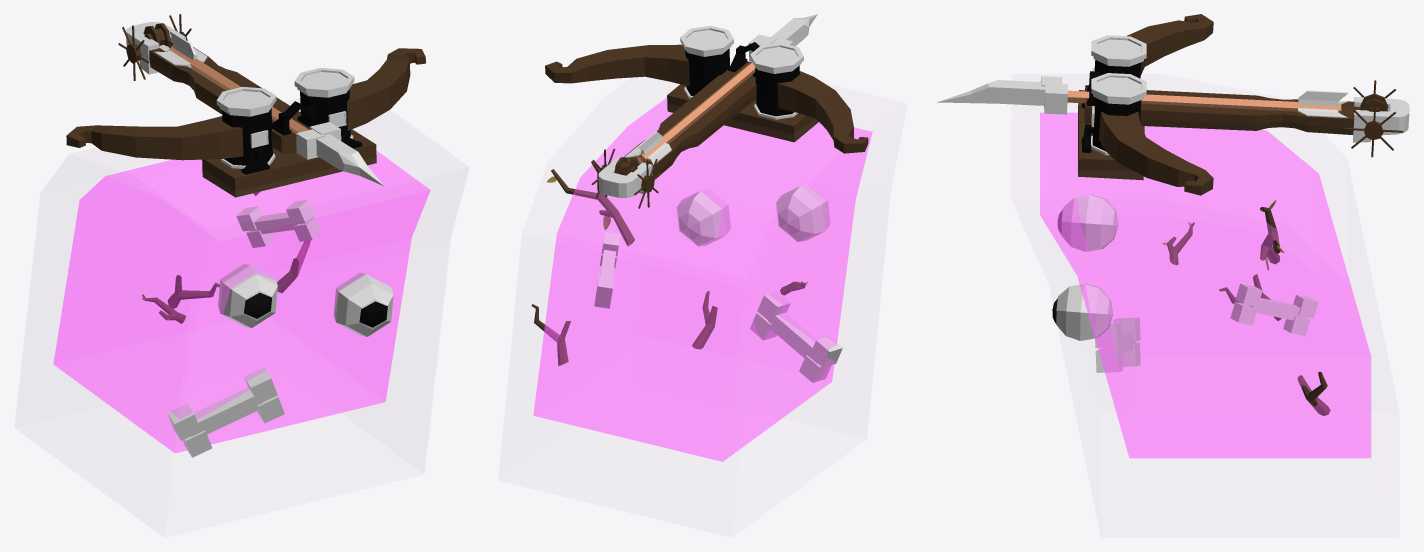
Rendered from Enemy_Range01.fbx.
3 renders of one model, left to right at view 1: azimuth 30°, elevation 25°; view 2: azimuth 150°, elevation 25°; view 3: azimuth 270°, elevation 25°, orthographic. The views are drawn at different scales.
Visible parts, largest first — view 1: Cylinder.008; view 2: Cylinder.008; view 3: Cylinder.008.
Part boxes in pixels (x1,y1,x2,y2): Cylinder.008: (53,14,430,457); Cylinder.008: (531,14,872,461); Cylinder.008: (937,14,1409,458).
Size of the model in its own units: 273 by 303 by 317.
